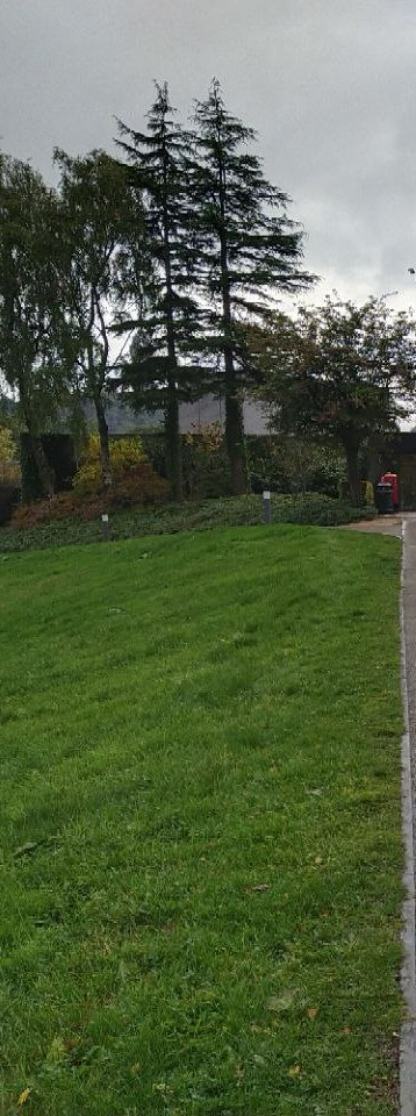tree: (200, 78, 308, 505), (111, 72, 210, 509), (266, 283, 416, 515), (75, 120, 137, 497), (0, 120, 55, 503)
